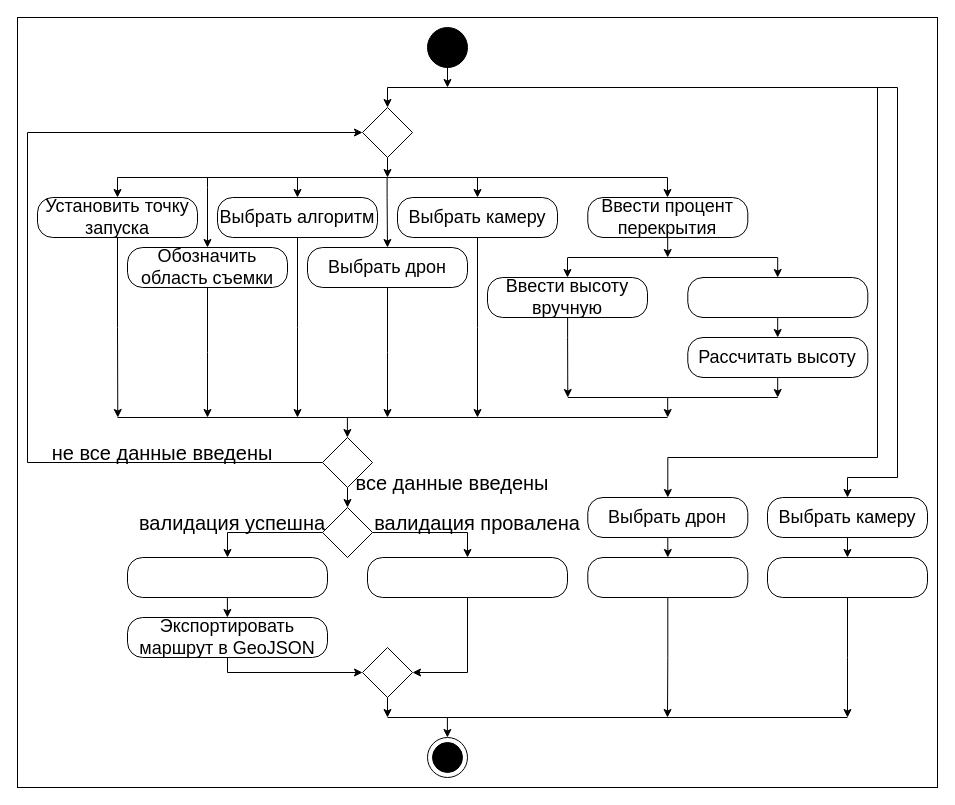
This 955x805 diagram has some shape labels left out. The shapes that lost their labels are listed below. From the top down, each one's centre as x and y in pixels, then its label:
At [777,297]: "Ввести разрешение съемки".
At [227,577]: "Отобразить маршрут на карте".
At [467,577]: "Отобразить ошибку валидации".
At [667,577]: "Изменить дрон".
At [847,577]: "Изменить камеру".
